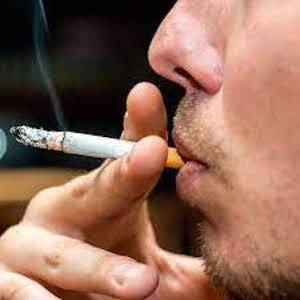heat: (11, 122, 70, 155)
